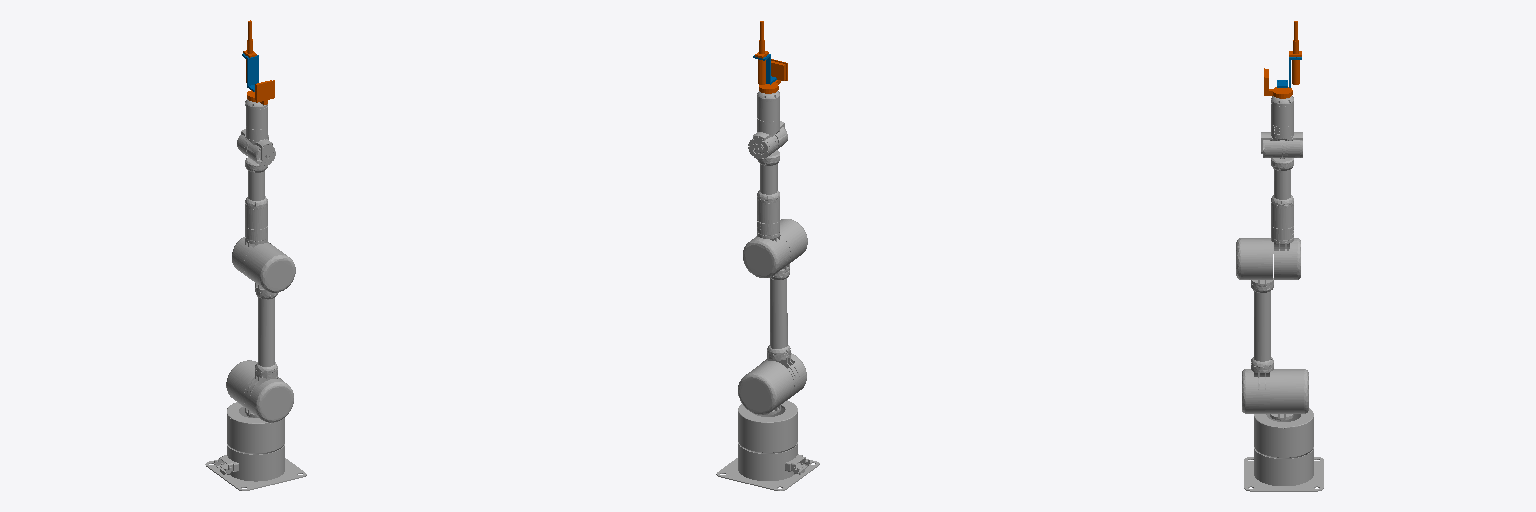
URDF robot description (prototype4):
<?xml version="1.0" ?>
<!-- =================================================================================== -->
<!-- |    This document was autogenerated by xacro from fourbythree_urdf_template.urdf.xacro | -->
<!-- |    EDITING THIS FILE BY HAND IS NOT RECOMMENDED                                 | -->
<!-- =================================================================================== -->
<robot name="prototype4" xmlns:xacro="http://ros.org/wiki/xacro">
  
  
  <material name="Blue">
    <color rgba="0 0.0 1.0 1.0"/>
  </material>
  <material name="Grey">
    <color rgba="0.5 0.5 0.5 1.0"/>
  </material>
  <material name="LightGrey">
    <color rgba="0.7 0.7 0.7 1.0"/>
  </material>
  <material name="DarkGrey">
    <color rgba="0.3 0.3 0.3 1.0"/>
  </material>
  
  
  <!-- RADIANT -->
  <!-- Nm -->
  <!-- PI/2 = 1.5708-->
  <!-- PI   = 3.1416-->
  
  
  <link name="base">
    <visual>
      <origin xyz="0 0 0" rpy="0 0 -3.1416" />
      <geometry>
       <mesh filename="package://fourbythree_description/meshes/prototype4_base.stl"/>
      </geometry>
      <material name="LightGrey">
      </material>
    </visual>
  </link>
  
  
  
  <joint name="joint_1" type="revolute">
    <parent link="base"/>
    <child link="link1_rotZ"/>
    <origin rpy="0.0 0 0.0" xyz="0 0 0.425"/>
    <axis xyz="0 0 1"/>
    <limit effort="250" lower="-2.8" upper="2.8" velocity="0.5"/>
  </joint>
  <joint name="joint_1_fixed" type="fixed">
    <parent link="link1_rotZ"/>
    <child link="link1"/>
    <origin rpy="1.57079632679 0.0 0" xyz="0.0 0 0"/>
  </joint>
  <link name="link1_rotZ">
    <visual>
      <origin xyz="0 -0.03 -0.02" rpy="0 0 -1.5708 " />
      <geometry>
        <mesh filename="package://fourbythree_description/meshes/prototype4_link1.stl"/>
      </geometry>
      <material name="LightGrey">
      </material>
    </visual>
  </link>
  <link name="link1"/>
  
  
  
  <joint name="joint_2" type="revolute">
    <parent link="link1"/>
    <child link="link2_rotZ"/>
    <origin rpy="0.0 0 1.57079632679" xyz="0 0 0.0"/>
    <axis xyz="0 0 1"/>
    <limit effort="250" lower="-1.8" upper="1.8" velocity="0.5"/>
  </joint>
  <joint name="joint_2_fixed" type="fixed">
    <parent link="link2_rotZ"/>
    <child link="link2"/>
    <origin rpy="0.0 0.0 0" xyz="0.6569 0 0"/>
  </joint>
  <link name="link2_rotZ">
    <visual>
      <origin xyz="0 0 0.09 " rpy=" 0 -1.572 3.1416" />
      <geometry>
        <mesh filename="package://fourbythree_description/meshes/prototype4_link2.stl"/>
      </geometry>
      <material name="LightGrey">
      </material>
    </visual>
  </link>
  <link name="link2"/>
  

  
  <joint name="joint_3" type="revolute">
    <parent link="link2"/>
    <child link="link3_rotZ"/>
    <origin rpy="0.0 0 -1.57079632679" xyz="0 0 0.006"/>
    <axis xyz="0 0 1"/>
    <limit effort="90" lower="-2.5" upper="2.5" velocity="0.5"/>
  </joint>
  <joint name="joint_3_fixed" type="fixed">
    <parent link="link3_rotZ"/>
    <child link="link3"/>
    <origin rpy="-1.57079632679 0.0 0" xyz="0.0 0 0"/>
  </joint>
  <link name="link3_rotZ">
    <visual>
      <origin xyz=" 0 0 0 " rpy=" 0 -1.5708 -1.5708" />
      <geometry>
        <mesh filename="package://fourbythree_description/meshes/prototype4_link3.stl"/>
      </geometry>
      <material name="LightGrey">
      </material>
    </visual>
  </link>
  <link name="link3"/>
  
  
  
  <joint name="joint_4" type="revolute">
    <parent link="link3"/>
    <child link="link4_rotZ"/>
    <origin rpy="0.0 0 0.0" xyz="0 0 0.56345"/>
    <axis xyz="0 0 1"/>
    <limit effort="40" lower="-2.8" upper="2.8" velocity="0.5"/>
  </joint>
  <joint name="joint_4_fixed" type="fixed">
    <parent link="link4_rotZ"/>
    <child link="link4"/>
    <origin rpy="1.57079632679 0.0 0" xyz="0.0 0 0"/>
  </joint>
  <link name="link4_rotZ">
    <visual>
      <origin xyz="0 0 -0.39" rpy="0 0 1.5708 " />
      <geometry>
        <mesh filename="package://fourbythree_description/meshes/prototype4_link4.stl"/>
      </geometry>
      <material name="LightGrey">
      </material>
    </visual>
  </link>
  <link name="link4"/>
  
  
  
  <joint name="joint_5" type="revolute">
    <parent link="link4"/>
    <child link="link5_rotZ"/>
    <origin rpy="0.0 0 0.0" xyz="0 0 0.0"/>
    <axis xyz="0 0 1"/>
    <limit effort="40" lower="-1.57" upper="1.57" velocity="0.5"/>
  </joint>
  <joint name="joint_5_fixed" type="fixed">
    <parent link="link5_rotZ"/>
    <child link="link5"/>
    <origin rpy="-1.57079632679 0.0 0" xyz="0.0 0 0"/>
  </joint>
  <link name="link5_rotZ">
    <visual>
      <origin xyz=" 0 0 -0.01" rpy="0 1.5708 1.5708 " />
      <geometry>
        <mesh filename="package://fourbythree_description/meshes/prototype4_link5.stl"/>
      </geometry>
      <material name="LightGrey">
      </material>
    </visual>
  </link>
  <link name="link5"/>
  
  
  
  <joint name="joint_6" type="revolute">
    <parent link="link5"/>
    <child link="flange_rotZ"/>
    <origin rpy="0.0 0 0.0" xyz="0 0 0.26055"/>
    <axis xyz="0 0 1"/>
    <limit effort="40" lower="-2.8" upper="2.8" velocity="0.5"/>
  </joint>
  <joint name="joint_6_fixed" type="fixed">
    <parent link="flange_rotZ"/>
    <child link="flange"/>
    <origin rpy="0.0 0.0 0" xyz="0.0 0 0"/>
  </joint>
  
  
  <link name="flange_rotZ">
    <visual>
      <origin xyz=" 0 0 0" rpy="0 0  0 " />
      <geometry>
        <mesh filename="package://fourbythree_description/meshes/prototype4_flange.stl"/>
      </geometry>
      <material name="LightGrey">
      </material>
    </visual>
  </link>
  <link name="flange"/>
  
  
  <joint name="tool_adapter_joint" type="fixed">
    <origin rpy="0.0 0.0 0.0" xyz="0.0 0.0 0.01075"/>
    <parent link="flange"/>
    <child link="tool_adapter_link"/>
  </joint>
  <link name="tool_adapter_link">
    <inertial>
      <origin rpy="0.0 0.0 0.0" xyz="0.0 0.0 0.0"/>
      <mass value="1"/>
      <inertia ixx="1" ixy="0.0" ixz="0.0" iyy="1" iyz="0.0" izz="1"/>
    </inertial>
    <visual>
      <origin rpy="0 0.0 0" xyz="0.0 0.0 0.0"/>
      <geometry>
        <mesh filename="package://fourbythree_description/meshes/end_effector/tool_adapter.stl"/>
      </geometry>
      <material name="Black"/>
    </visual>
    <collision>
      <origin rpy="0 0.0 0" xyz="0.0 0.0 0.0"/>
      <geometry>
        <mesh filename="package://fourbythree_description/meshes/end_effector/tool_adapter.stl"/>
      </geometry>
      <material name="Black"/>
    </collision>
  </link>
  <!-- cameras -->
  <joint name="cameras_tcp/left_fixed_base_joint" type="fixed">
    <origin rpy="0.0 0.0 0.0" xyz="0.018 -0.101 0.05"/>
    <child link="cameras_tcp/left_link"/>
    <parent link="tool_adapter_link"/>
  </joint>
  <link name="cameras_tcp/left_link">
    <visual>
      <geometry>
        <mesh filename="package://fourbythree_description/meshes/mako_3d/visual/mako_3d_link/back.stl"/>
      </geometry>
      <material name="Grey"/>
    </visual>
    <visual>
      <geometry>
        <mesh filename="package://fourbythree_description/meshes/mako_3d/visual/mako_3d_link/bottom.stl"/>
      </geometry>
      <material name="Light Grey"/>
    </visual>
    <visual>
      <geometry>
        <mesh filename="package://fourbythree_description/meshes/mako_3d/visual/mako_3d_link/cover.stl"/>
      </geometry>
      <material name="Red"/>
    </visual>
    <visual>
      <geometry>
        <mesh filename="package://fourbythree_description/meshes/mako_3d/visual/mako_3d_link/ethernet.stl"/>
      </geometry>
      <material name="Light Grey"/>
    </visual>
    <visual>
      <geometry>
        <mesh filename="package://fourbythree_description/meshes/mako_3d/visual/mako_3d_link/front.stl"/>
      </geometry>
      <material name="Light Grey"/>
    </visual>
    <visual>
      <geometry>
        <mesh filename="package://fourbythree_description/meshes/mako_3d/visual/mako_3d_link/lens.stl"/>
      </geometry>
      <material name="Light Grey"/>
    </visual>
    <visual>
      <geometry>
        <mesh filename="package://fourbythree_description/meshes/mako_3d/visual/mako_3d_link/power.stl"/>
      </geometry>
      <material name="Light Grey"/>
    </visual>
    <collision>
      <geometry>
        <mesh filename="package://fourbythree_description/meshes/mako_3d/collision/mako_3d_link/case.stl"/>
      </geometry>
      <material name="Light Grey"/>
    </collision>
    <collision>
      <geometry>
        <mesh filename="package://fourbythree_description/meshes/mako_3d/collision/mako_3d_link/lens.stl"/>
      </geometry>
      <material name="Light Grey"/>
    </collision>
    <inertial>
      <!-- Estimated from reference sheet -->
      <mass value="0.08"/>
      <inertia ixx="1.0" ixy="0.0" ixz="0.0" iyy="1.0" iyz="0.0" izz="1.0"/>
    </inertial>
  </link>
  <!--Extensions -->
  <joint name="cameras_tcp/left_gazebo_optical_joint" type="fixed">
    <child link="cameras_tcp/left_gazebo_optical_link"/>
    <parent link="cameras_tcp/left_link"/>
    <origin rpy="0 -1.57079632679 -1.57079632679" xyz="0 0 0"/>
  </joint>
  <link name="cameras_tcp/left_gazebo_optical_link"/>

  <joint name="cameras_tcp/right_fixed_base_joint" type="fixed">
    <origin rpy="0.0 0.0 0.0" xyz="-0.036 0 0"/>
    <child link="cameras_tcp/right_link"/>
    <parent link="cameras_tcp/left_link"/>
  </joint>
  <link name="cameras_tcp/right_link">
    <visual>
      <geometry>
        <mesh filename="package://fourbythree_description/meshes/mako_3d/visual/mako_3d_link/back.stl"/>
      </geometry>
      <material name="Grey"/>
    </visual>
    <visual>
      <geometry>
        <mesh filename="package://fourbythree_description/meshes/mako_3d/visual/mako_3d_link/bottom.stl"/>
      </geometry>
      <material name="Light Grey"/>
    </visual>
    <visual>
      <geometry>
        <mesh filename="package://fourbythree_description/meshes/mako_3d/visual/mako_3d_link/cover.stl"/>
      </geometry>
      <material name="Red"/>
    </visual>
    <visual>
      <geometry>
        <mesh filename="package://fourbythree_description/meshes/mako_3d/visual/mako_3d_link/ethernet.stl"/>
      </geometry>
      <material name="Light Grey"/>
    </visual>
    <visual>
      <geometry>
        <mesh filename="package://fourbythree_description/meshes/mako_3d/visual/mako_3d_link/front.stl"/>
      </geometry>
      <material name="Light Grey"/>
    </visual>
    <visual>
      <geometry>
        <mesh filename="package://fourbythree_description/meshes/mako_3d/visual/mako_3d_link/lens.stl"/>
      </geometry>
      <material name="Light Grey"/>
    </visual>
    <visual>
      <geometry>
        <mesh filename="package://fourbythree_description/meshes/mako_3d/visual/mako_3d_link/power.stl"/>
      </geometry>
      <material name="Light Grey"/>
    </visual>
    <collision>
      <geometry>
        <mesh filename="package://fourbythree_description/meshes/mako_3d/collision/mako_3d_link/case.stl"/>
      </geometry>
      <material name="Light Grey"/>
    </collision>
    <collision>
      <geometry>
        <mesh filename="package://fourbythree_description/meshes/mako_3d/collision/mako_3d_link/lens.stl"/>
      </geometry>
      <material name="Light Grey"/>
    </collision>
    <inertial>
      <!-- Estimated from reference sheet -->
      <mass value="0.08"/>
      <inertia ixx="1.0" ixy="0.0" ixz="0.0" iyy="1.0" iyz="0.0" izz="1.0"/>
    </inertial>
  </link>
  <!--Extensions -->
  <joint name="cameras_tcp/right_gazebo_optical_joint" type="fixed">
    <child link="cameras_tcp/right_gazebo_optical_link"/>
    <parent link="cameras_tcp/right_link"/>
    <origin rpy="0 -1.57079632679 -1.57079632679" xyz="0 0 0"/>
  </joint>
  <link name="cameras_tcp/right_gazebo_optical_link"/>


  <joint name="schunk_adapter_fixed_base_joint" type="fixed">
    <origin rpy="0.0 0.0 .0" xyz="0 0 0.01075"/>
    <child link="schunk_adapter_link"/>
    <parent link="tool_adapter_link"/>
  </joint>
  <link name="schunk_adapter_link">
    <visual>
      <geometry>
        <mesh filename="package://fourbythree_description/meshes/schunk_adapter/visual/link_adapter/adapter_schunk_side.stl"/>
      </geometry>
      <material name="Grey"/>
    </visual>
    <visual>
      <geometry>
        <mesh filename="package://fourbythree_description/meshes/schunk_adapter/visual/link_adapter/adapter_robot_side.stl"/>
      </geometry>
      <material name="Grey"/>
    </visual>
    <visual>
      <geometry>
        <mesh filename="package://fourbythree_description/meshes/schunk_adapter/visual/link_adapter/union_nut.stl"/>
      </geometry>
      <material name="Black"/>
    </visual>
    <collision>
      <geometry>
        <mesh filename="package://fourbythree_description/meshes/schunk_adapter/collision/link_adapter/adapter.stl"/>
      </geometry>
      <material name="Grey"/>
    </collision>
    <inertial>
      <!-- Measured mass value -->
      <mass value="0.115"/>
      <inertia ixx="1.0" ixy="0.0" ixz="0.0" iyy="1.0" iyz="0.0" izz="1.0"/>
    </inertial>
  </link>

  <joint name="schunk_adapter_2_fixed_base_joint" type="fixed">
    <origin rpy="0.0 0.0 0.0" xyz="0 0 0.01"/>
    <child link="schunk_adapter_2_link"/>
    <parent link="schunk_adapter_link"/>
  </joint>
  <link name="schunk_adapter_2_link">
    <visual>
      <geometry>
        <mesh filename="package://fourbythree_description/meshes/schunk_adapter/visual/link_adapter/adapter_schunk_side.stl"/>
      </geometry>
      <material name="Grey"/>
    </visual>
    <visual>
      <geometry>
        <mesh filename="package://fourbythree_description/meshes/schunk_adapter/visual/link_adapter/adapter_robot_side.stl"/>
      </geometry>
      <material name="Grey"/>
    </visual>
    <visual>
      <geometry>
        <mesh filename="package://fourbythree_description/meshes/schunk_adapter/visual/link_adapter/union_nut.stl"/>
      </geometry>
      <material name="Black"/>
    </visual>
    <collision>
      <geometry>
        <mesh filename="package://fourbythree_description/meshes/schunk_adapter/collision/link_adapter/adapter.stl"/>
      </geometry>
      <material name="Grey"/>
    </collision>
    <inertial>
      <!-- Measured mass value -->
      <mass value="0.115"/>
      <inertia ixx="1.0" ixy="0.0" ixz="0.0" iyy="1.0" iyz="0.0" izz="1.0"/>
    </inertial>
  </link>
 
  <joint name="pluto10_support_joint" type="fixed">
    <origin rpy="0.0 0.0 .0" xyz="0 0 0.015"/>
    <parent link="schunk_adapter_2_link"/>
    <child link="pluto10_support_link"/>
  </joint>
  <link name="pluto10_support_link">
    <inertial>
      <origin rpy="0.0 0.0 0.0" xyz="0.0 0.0 0.0"/>
      <mass value="1"/>
      <inertia ixx="1" ixy="0.0" ixz="0.0" iyy="1" iyz="0.0" izz="1"/>
    </inertial>
    <visual>
      <origin rpy="0 0.0 0" xyz="0.0 0.0 0.0"/>
      <geometry>
        <mesh filename="package://fourbythree_description/meshes/end_effector/pluto10_support.stl"/>
      </geometry>
      <material name="Black"/>
    </visual>
    <collision>
      <origin rpy="0 0.0 0" xyz="0.0 0.0 0.0"/>
      <geometry>
        <mesh filename="package://fourbythree_description/meshes/end_effector/pluto10_support.stl"/>
      </geometry>
      <material name="Black"/>
    </collision>
  </link>
  <joint name="support_pluto10_joint" type="fixed">
    <origin rpy="0.0 0.0 1.57" xyz="0.0 0.06 0.025"/>
    <parent link="schunk_adapter_2_link"/>
    <child link="pluto10_link"/>
  </joint>
  <link name="pluto10_link">
    <inertial>
      <origin rpy="0.0 0.0 0.0" xyz="0.0 0.0 0.0"/>
      <mass value="1"/>
      <inertia ixx="1" ixy="0.0" ixz="0.0" iyy="1" iyz="0.0" izz="1"/>
    </inertial>
    <visual>
      <origin rpy="0 0.0 0" xyz="0.0 0.0 0.0"/>
      <geometry>
        <mesh filename="package://fourbythree_description/meshes/end_effector/pluto10.stl"/>
      </geometry>
      <material name="Black"/>
    </visual>
    <collision>
      <origin rpy="0 0.0 0" xyz="0.0 0.0 0.0"/>
      <geometry>
        <mesh filename="package://fourbythree_description/meshes/end_effector/pluto10.stl"/>
      </geometry>
      <material name="Black"/>
    </collision>
  </link>
  
  
  
</robot>

--- Facts derived from the render (not from the file) ---
Views: 3 orthographic renders of the robot side by side, from view 1: azimuth 30°, elevation 25°; view 2: azimuth 150°, elevation 25°; view 3: azimuth 270°, elevation 25°.
Model prototype4 with 22 links and 21 joints (6 revolute, 15 fixed), rooted at base, posed every joint at zero.
Visible links, largest first — view 1: base, link2_rotZ, link1_rotZ, link4_rotZ, link5_rotZ; view 2: base, link2_rotZ, link1_rotZ, link4_rotZ, link5_rotZ; view 3: base, link2_rotZ, link1_rotZ, link4_rotZ, link5_rotZ.
Boxes of the visible links, bbox=[...] form: base: bbox=[205, 402, 306, 490]; link2_rotZ: bbox=[232, 237, 295, 395]; link1_rotZ: bbox=[226, 360, 293, 422]; link4_rotZ: bbox=[238, 135, 275, 229]; link5_rotZ: bbox=[237, 106, 272, 162]; base: bbox=[716, 400, 819, 490]; link2_rotZ: bbox=[743, 219, 807, 377]; link1_rotZ: bbox=[738, 353, 806, 414]; link4_rotZ: bbox=[757, 127, 787, 223]; link5_rotZ: bbox=[748, 98, 784, 159]; base: bbox=[1244, 408, 1323, 491]; link2_rotZ: bbox=[1236, 238, 1300, 389]; link1_rotZ: bbox=[1242, 369, 1308, 420]; link4_rotZ: bbox=[1263, 140, 1299, 228]; link5_rotZ: bbox=[1261, 103, 1302, 157].
Size in the robot's own frame: 0.3719 by 0.3964 by 2.27 metres.
Meshes: 20 distinct files referenced, 10 mesh visuals loaded (10 binary STL); not drawn: 20 (reference not matched to a file when rendering).